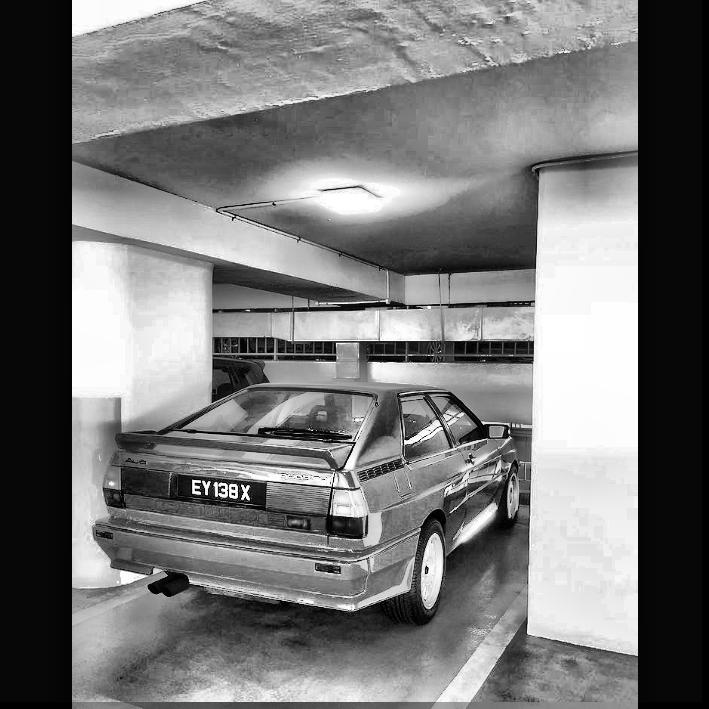License-Plates: (179, 477, 261, 503)
